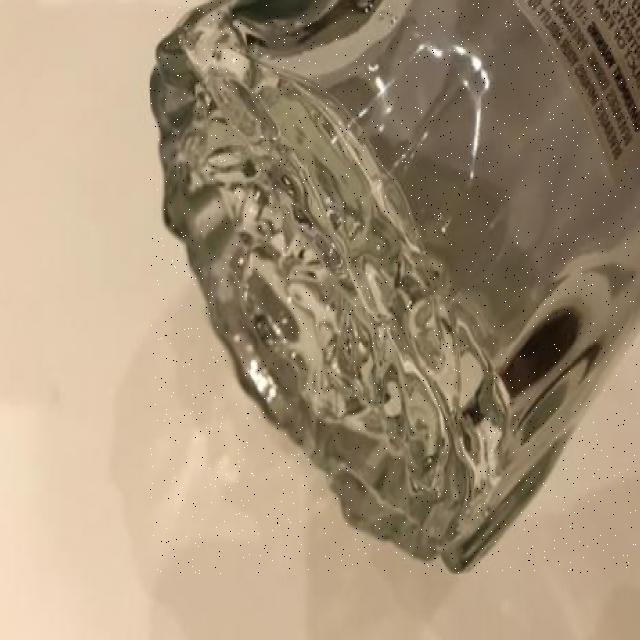glass: (151, 1, 639, 574)
